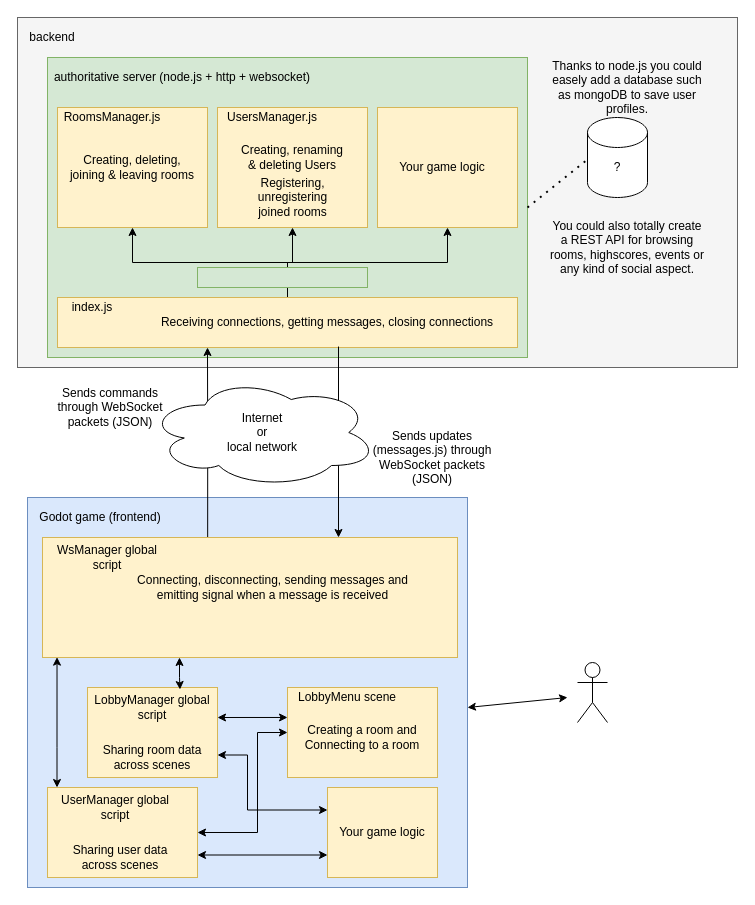
The diagram is 755 pixels wide and 905 high, and some of its shapes have lost their labels. The shapes that lost their labels are listed below. From the top down, each one's centre as x and y in pixels, then its label:
At [282,277]: "message data & user".
At [592,692]: "Player".
